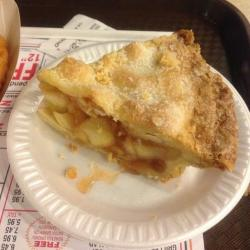apple_pie: (30, 26, 239, 193)
